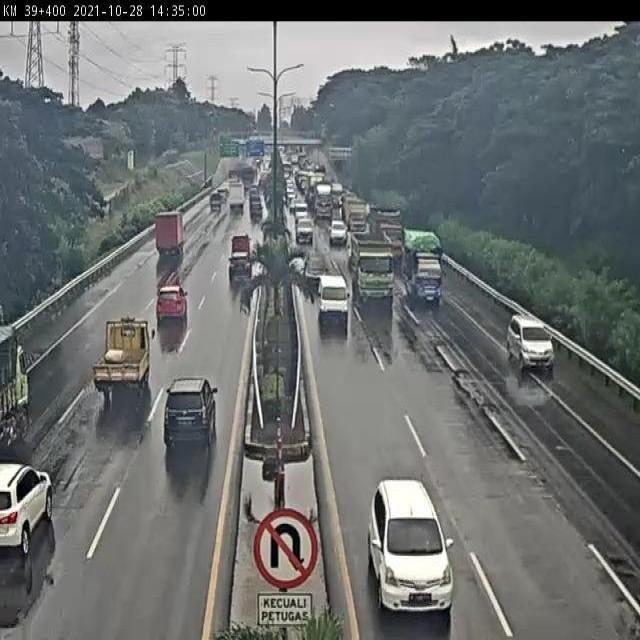car: (356, 468, 470, 624), (0, 459, 62, 576), (162, 368, 220, 449), (502, 307, 559, 380), (316, 275, 354, 329), (152, 286, 187, 322), (291, 211, 320, 248), (303, 255, 329, 288), (328, 215, 351, 248), (229, 233, 257, 256), (232, 256, 257, 281)
truck: (95, 316, 151, 396), (0, 326, 33, 450), (402, 229, 447, 316), (348, 236, 398, 308), (153, 209, 190, 264)
